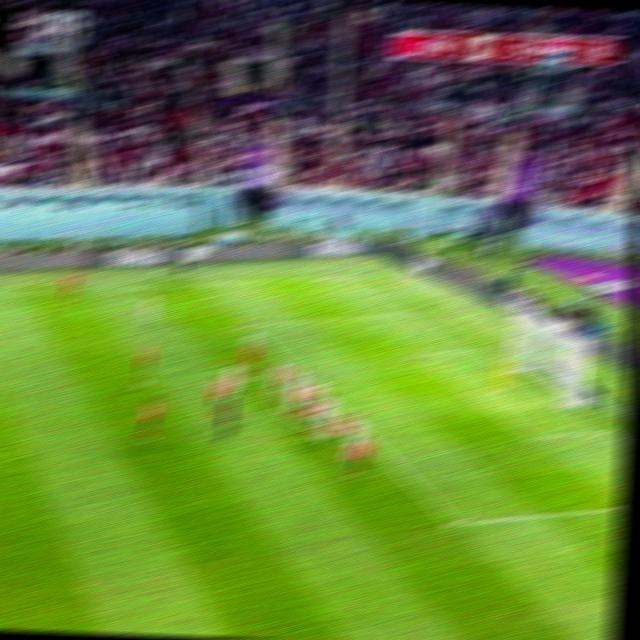bigarea_bottom_inner: (442, 510, 471, 536)
bigarea_top_inner: (236, 317, 258, 332)
bigarea_top_outter: (409, 304, 432, 319)
corner: (351, 268, 372, 280)
smallarea_bottom_inner: (520, 424, 546, 447)
smallarea_bottom_outter: (592, 421, 617, 438)
smallarea_top_inner: (408, 344, 430, 362)
smallarea_top_outter: (464, 340, 487, 356)
